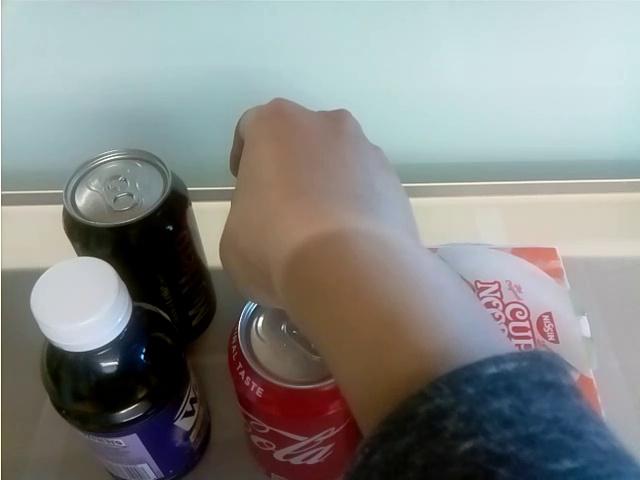cocacola: (224, 310, 351, 474)
cocacola-zero: (58, 150, 201, 257)
juice: (25, 257, 214, 480)
